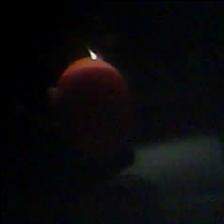fertile: (51, 54, 137, 160)
